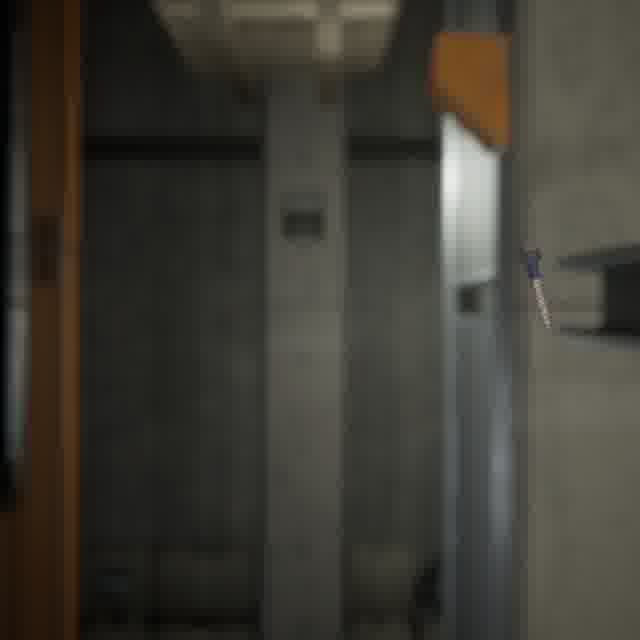bolt: (512, 240, 555, 334)
